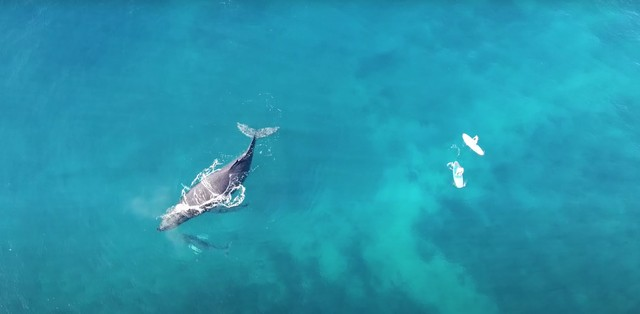whale: (145, 114, 286, 240)
